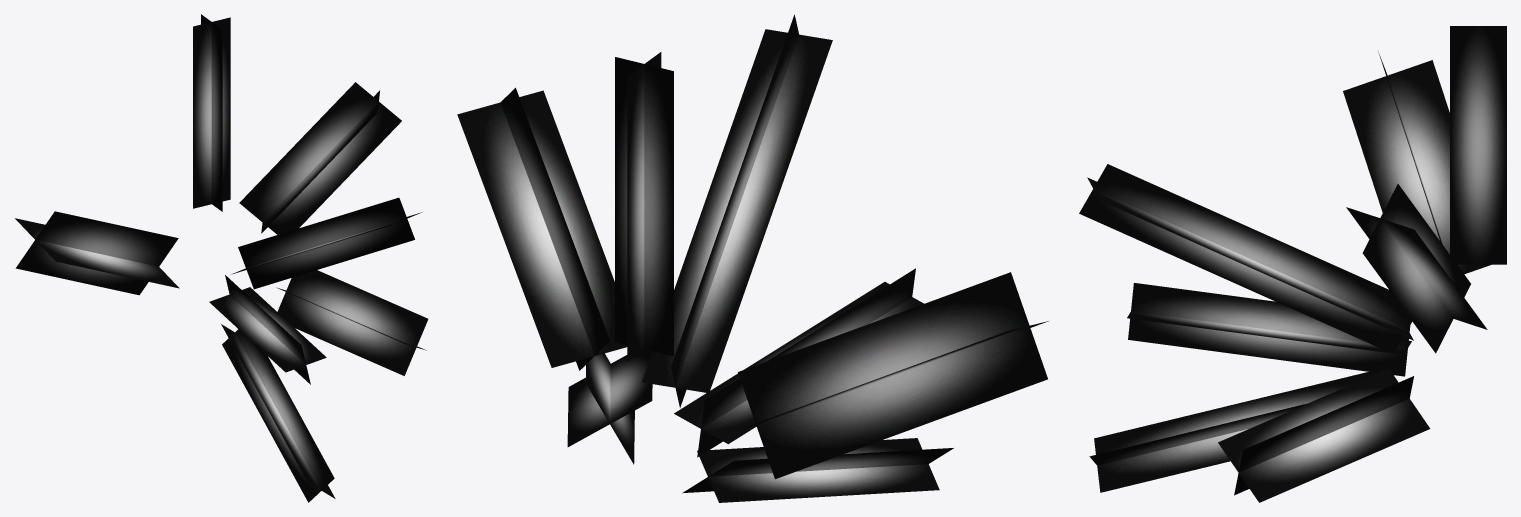
Rendered from vfx_kurp_0334.dae.
The picture shows the model from 3 angles, left to right: view 1: azimuth 30°, elevation 25°; view 2: azimuth 150°, elevation 25°; view 3: azimuth 270°, elevation 25°; orthographic projection. The views are drawn at different scales.
Parts seen in each view (by area): view 1: vfx_kurp_0334; view 2: vfx_kurp_0334; view 3: vfx_kurp_0334.
Boxes of the visible parts, left/top/right/bottom form: vfx_kurp_0334: left=15, top=14, right=428, bottom=502; vfx_kurp_0334: left=457, top=14, right=1048, bottom=502; vfx_kurp_0334: left=1079, top=26, right=1506, bottom=502.
Bounding box in the file's own units: 9.45 × 7.17 × 8.87.
Materials: 1 (1 with a texture image).
